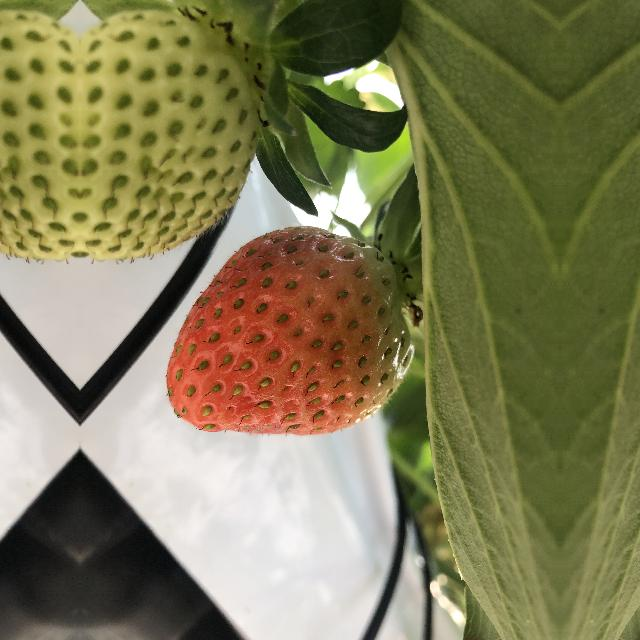Health_25: (80, 3, 262, 260), (0, 3, 80, 260)
Health_75: (164, 216, 418, 458)
